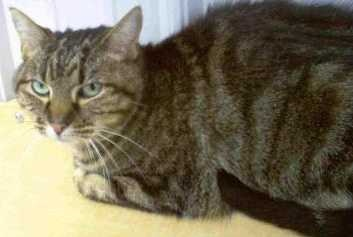Cat: (10, 2, 327, 217), (9, 6, 228, 211)
